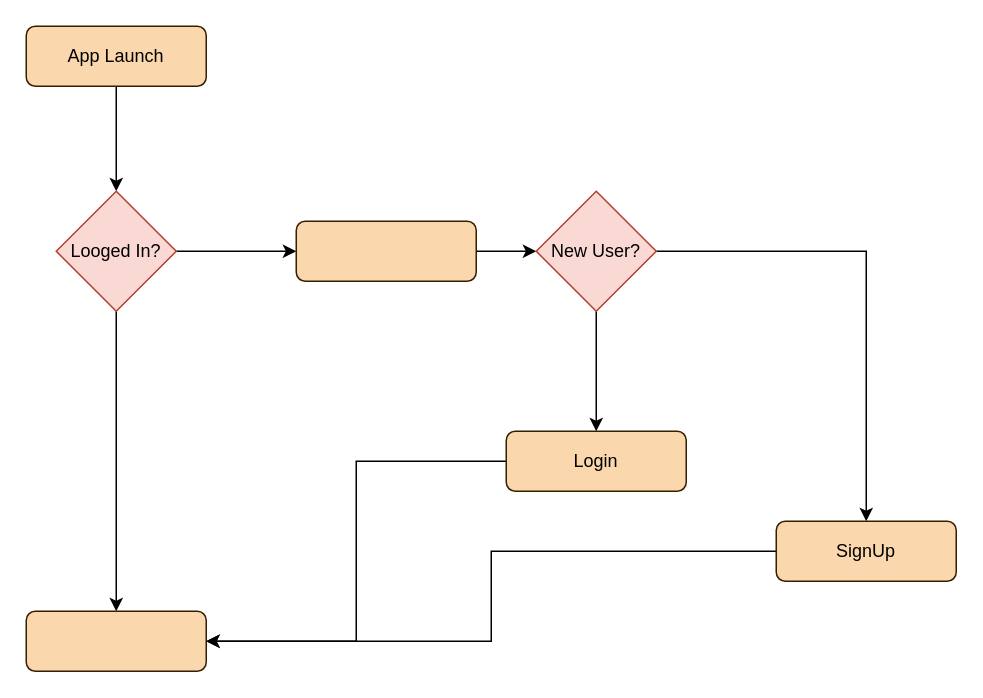
Image size: 983x698. Some labels were removed from this diagram. Each missing label, with the centre of its shape:
"Sign In" goes at [385,250].
"Today" goes at [115,640].
